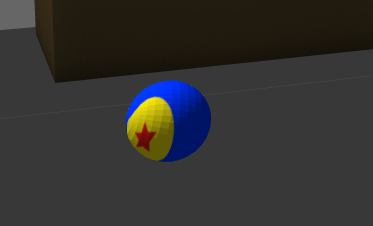toy story ball: (125, 79, 211, 162)
